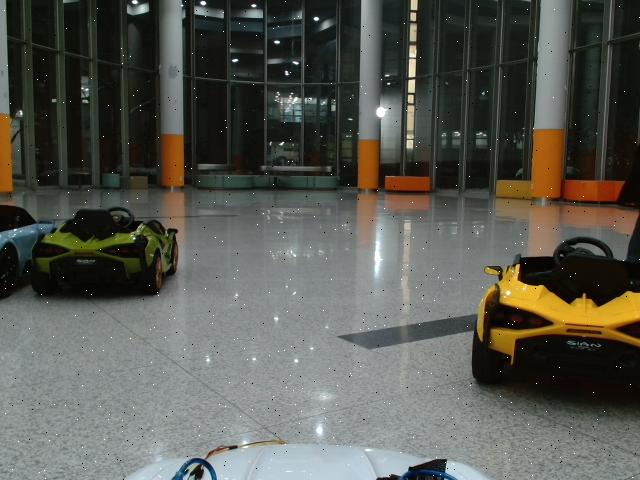car: (472, 237, 640, 390), (31, 207, 180, 296), (1, 205, 57, 300)
